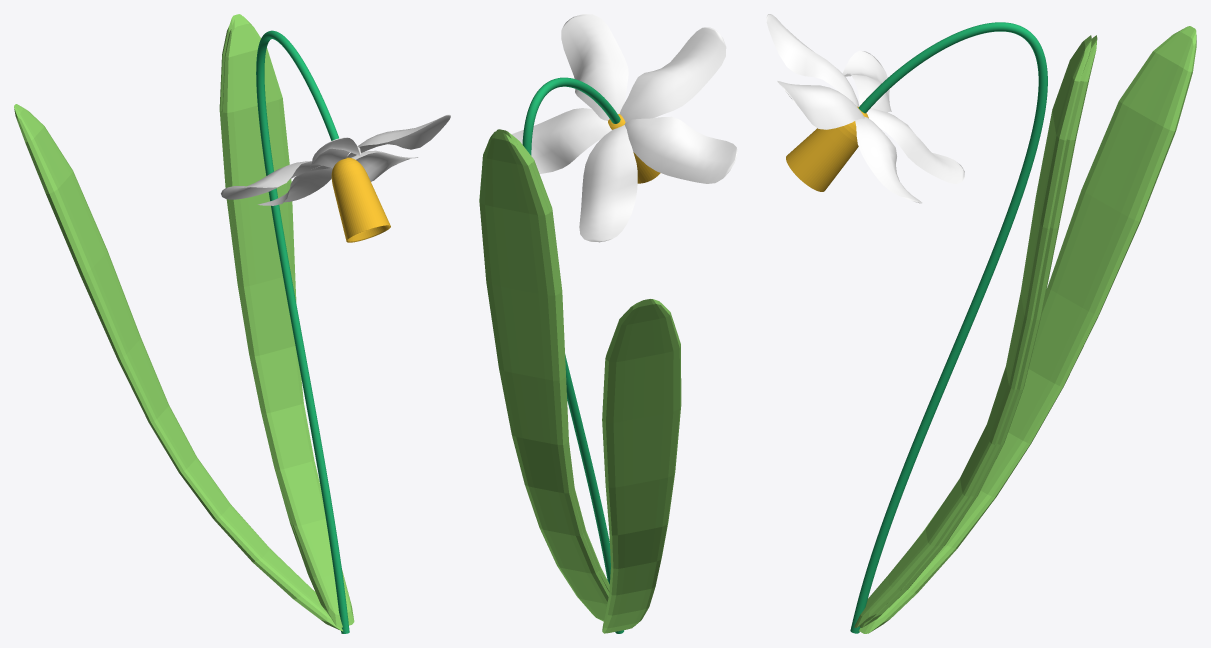
File: Narciss.fbx
3 renders of one model, left to right at view 1: azimuth 30°, elevation 25°; view 2: azimuth 150°, elevation 25°; view 3: azimuth 270°, elevation 25°, orthographic. The views are drawn at different scales.
Parts seen in each view (by area): view 1: Narciss_United; view 2: Narciss_United; view 3: Narciss_United.
Part boxes in pixels (bbox=[...]): Narciss_United: bbox=[14, 14, 450, 633]; Narciss_United: bbox=[479, 14, 737, 633]; Narciss_United: bbox=[766, 14, 1196, 633].
Size of the model in its own units: 30.44 by 58.23 by 37.26.
